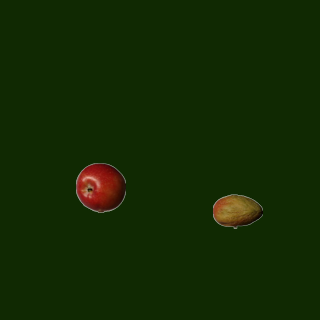Apple Braeburn: (75, 162, 125, 212)
Papaya: (212, 186, 262, 236)
